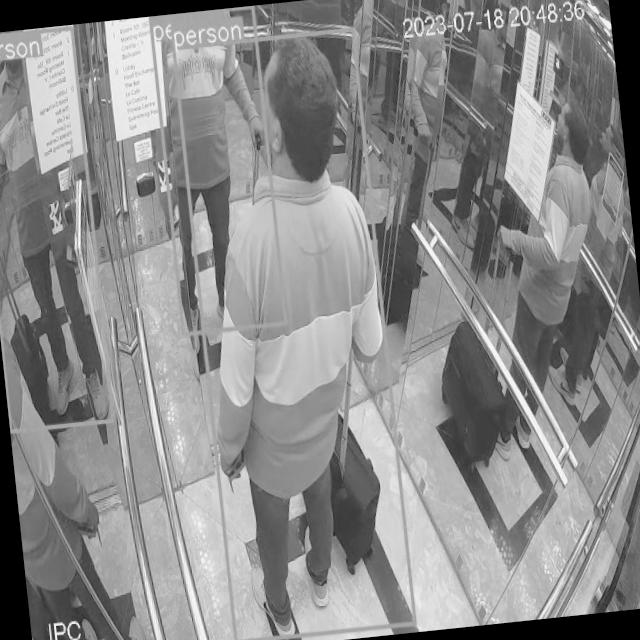person: (179, 19, 422, 640), (462, 106, 630, 484), (0, 293, 143, 640), (155, 11, 292, 349), (0, 25, 111, 442)
